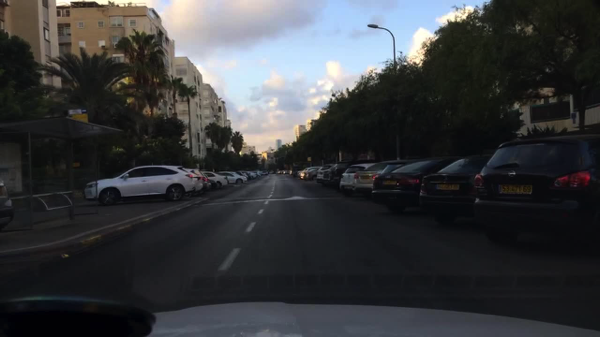car: (472, 133, 598, 244), (371, 158, 463, 212), (418, 155, 490, 223), (83, 165, 202, 201), (352, 160, 412, 199), (320, 160, 374, 188), (338, 162, 379, 197), (184, 167, 219, 191), (0, 179, 13, 232), (202, 171, 228, 189), (315, 164, 332, 184), (220, 172, 247, 184), (301, 167, 321, 181), (237, 169, 251, 181), (298, 168, 308, 180), (291, 169, 301, 178), (247, 171, 257, 179), (249, 170, 261, 176), (279, 169, 290, 175), (260, 170, 270, 176), (266, 170, 274, 174), (275, 170, 282, 174)
traffic sign: (67, 108, 87, 116), (72, 116, 88, 125)
